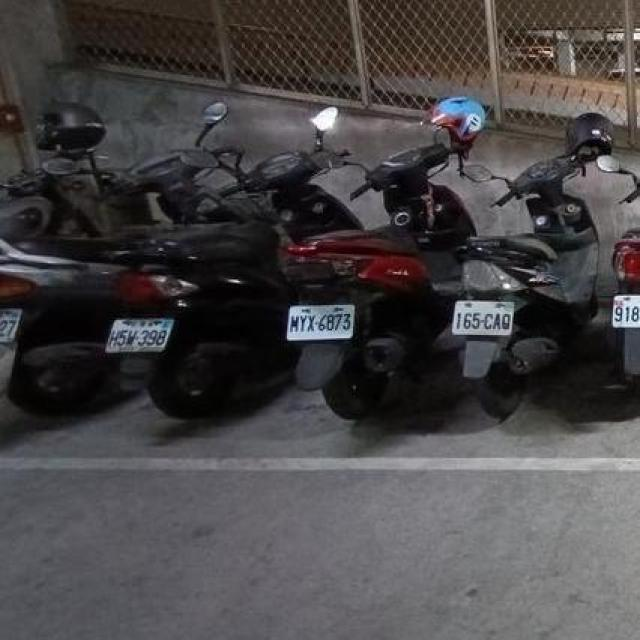W: (102, 305, 177, 361), (282, 293, 360, 345), (449, 290, 518, 341), (608, 285, 640, 332), (0, 299, 24, 346)
